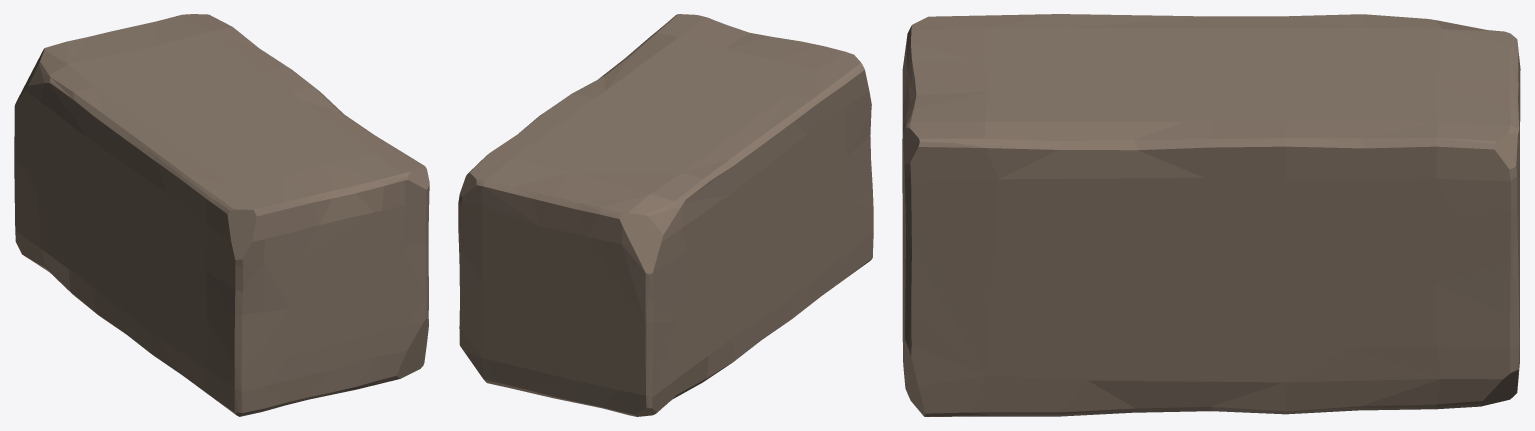
Rendered from RockPillarSmol003.fbx.
The picture shows the model from 3 angles, left to right: view 1: azimuth 30°, elevation 25°; view 2: azimuth 150°, elevation 25°; view 3: azimuth 270°, elevation 25°; orthographic projection. The views are drawn at different scales.
Visible parts, largest first — view 1: Cube.002; view 2: Cube.002; view 3: Cube.002.
Part boxes in pixels (<box>): Cube.002: <box>14,14,429,416</box>; Cube.002: <box>458,14,873,416</box>; Cube.002: <box>902,14,1520,416</box>.
Size of the model in its own units: 200 by 200 by 400.
